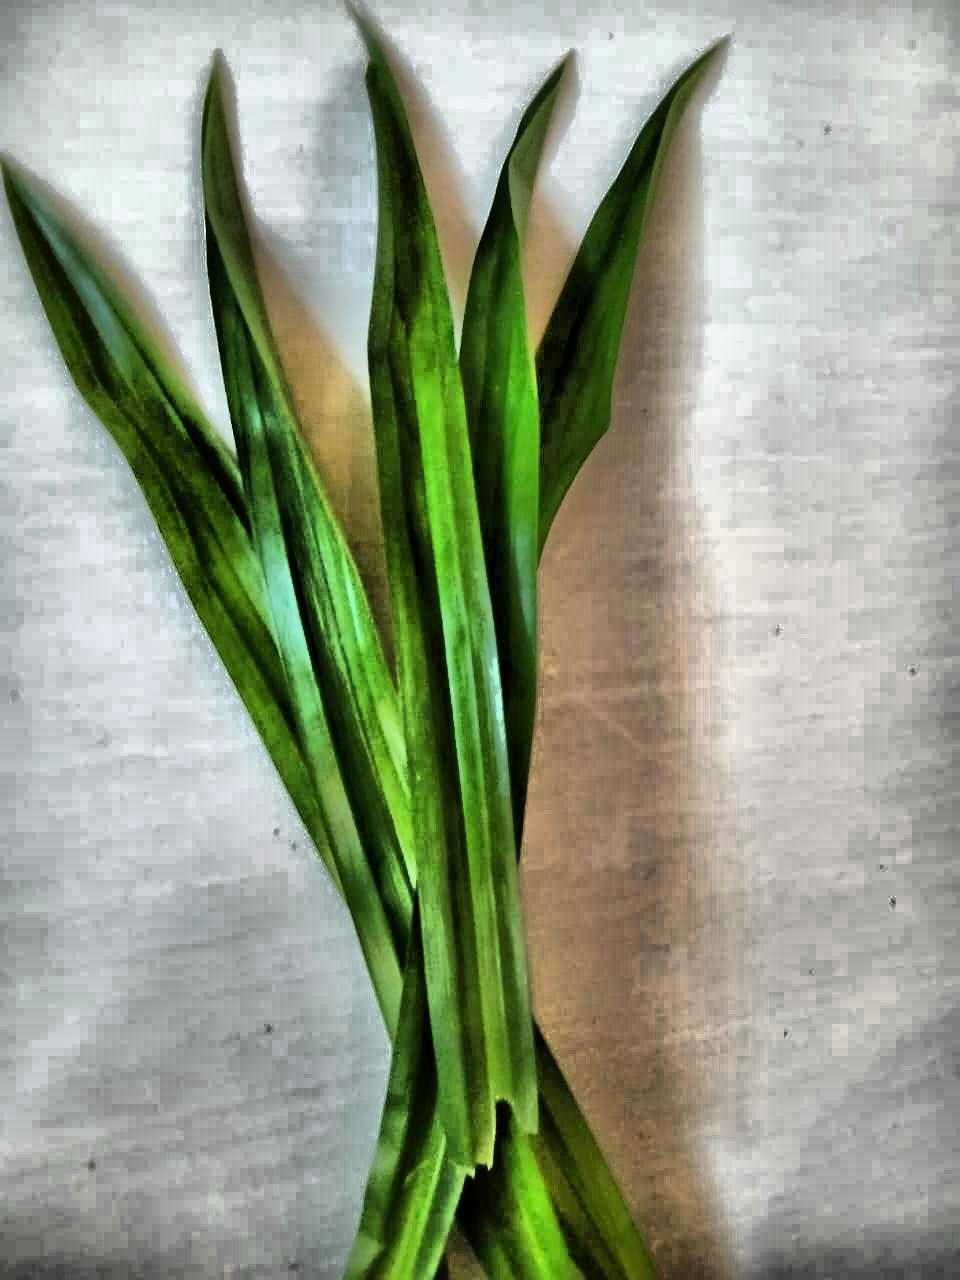daun pandan: (3, 22, 715, 1279)
